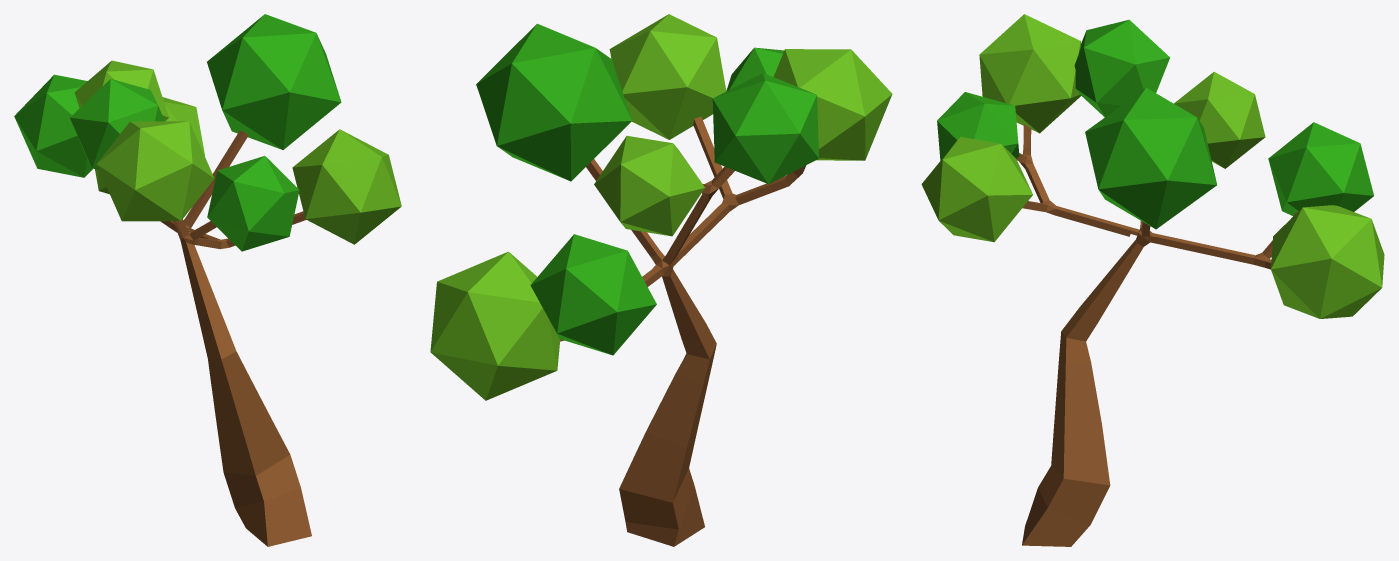
Rendered from Tree 2.1.fbx.
3 views of the same model, side by side, from view 1: azimuth 30°, elevation 25°; view 2: azimuth 150°, elevation 25°; view 3: azimuth 270°, elevation 25° (orthographic). The views are drawn at different scales.
Visible parts, largest first — view 1: Cube; view 2: Cube; view 3: Cube.
Part boxes in pixels (x1,y1,x2,y2): Cube: (14, 14, 401, 546); Cube: (430, 14, 892, 546); Cube: (921, 14, 1384, 546).
Size of the model in its own units: 196 by 300 by 276.
